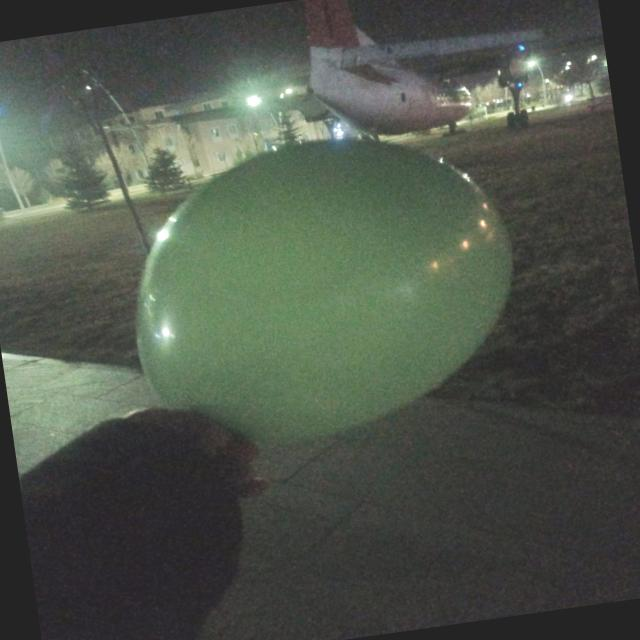balloon: (137, 141, 512, 442), (304, 238, 308, 243)
